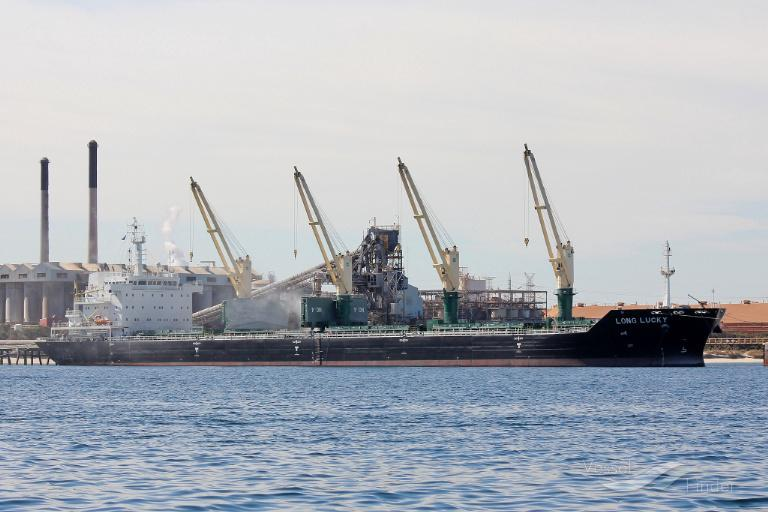OCR: (612, 311, 670, 327)
